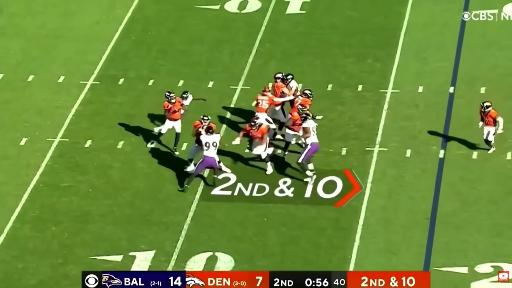Helmet: (166, 90, 176, 102), (282, 74, 294, 84), (303, 88, 315, 98), (273, 73, 284, 82), (300, 114, 311, 123), (480, 101, 491, 110), (180, 91, 189, 101), (202, 115, 210, 125), (298, 105, 308, 113), (252, 118, 259, 128), (263, 88, 271, 96), (206, 127, 213, 135)
Jersey: (193, 121, 215, 145), (200, 134, 220, 158), (163, 98, 183, 120), (255, 94, 274, 113), (303, 120, 318, 143), (246, 126, 268, 140), (480, 110, 498, 127), (289, 110, 302, 132), (291, 97, 311, 111), (287, 80, 299, 95), (273, 82, 285, 97), (287, 80, 298, 95), (183, 95, 193, 106)
Player: (180, 127, 230, 191), (233, 119, 273, 174), (154, 91, 183, 155), (253, 87, 293, 130), (186, 115, 216, 171), (298, 111, 319, 182), (479, 102, 503, 153), (283, 104, 307, 155), (270, 103, 287, 139), (292, 89, 313, 109), (284, 74, 299, 96), (180, 91, 193, 113)
